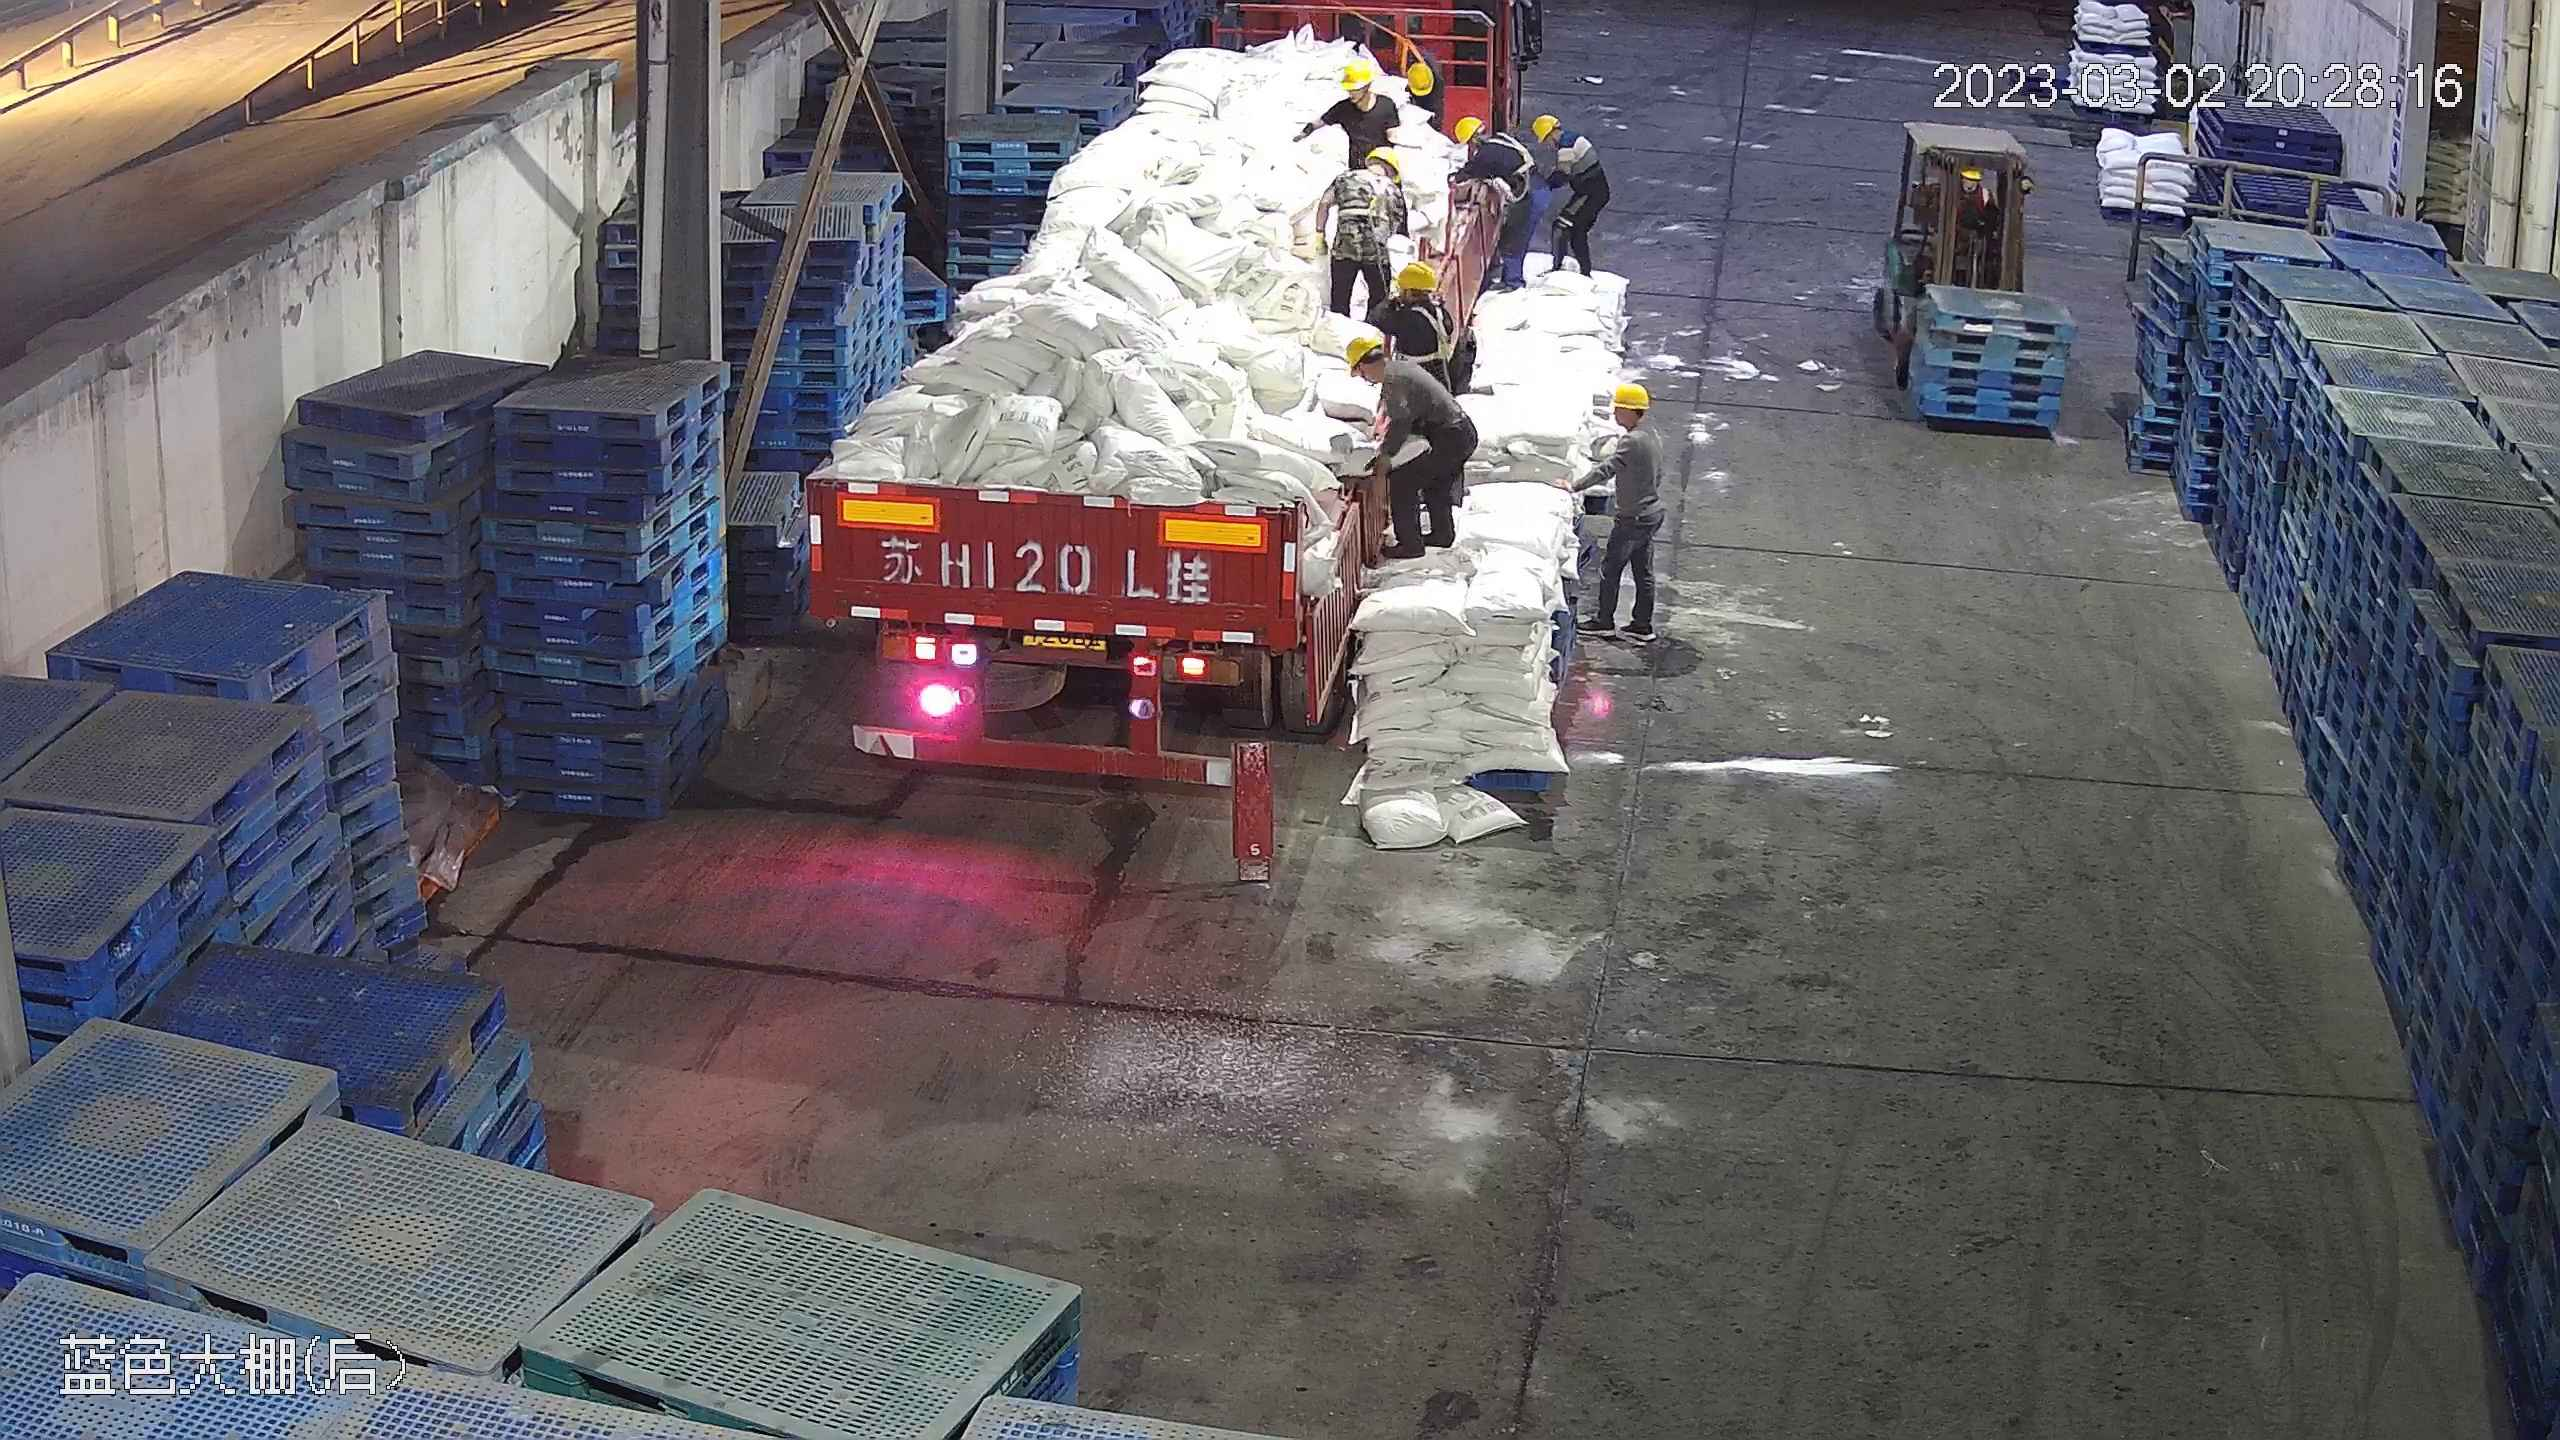belt: (1380, 351, 1457, 417), (1402, 296, 1467, 367), (1334, 164, 1394, 222), (1484, 129, 1540, 175), (1392, 31, 1432, 76)
head: (1343, 329, 1437, 400), (1397, 256, 1477, 330), (1599, 381, 1663, 467), (1323, 59, 1404, 122), (1329, 143, 1405, 209), (1455, 113, 1532, 174), (1530, 116, 1592, 167), (1396, 45, 1443, 97)
helmet: (1393, 259, 1439, 294), (1344, 332, 1384, 369), (1397, 56, 1433, 95), (1359, 146, 1400, 178), (1611, 381, 1652, 408), (1338, 59, 1375, 90), (1450, 111, 1482, 142), (1530, 112, 1560, 139)
people: (1340, 323, 1475, 559), (1573, 382, 1667, 644), (1310, 138, 1407, 331), (1441, 110, 1533, 298), (1475, 110, 1570, 286), (1523, 110, 1606, 288)
truck: (796, 2, 1428, 798)
